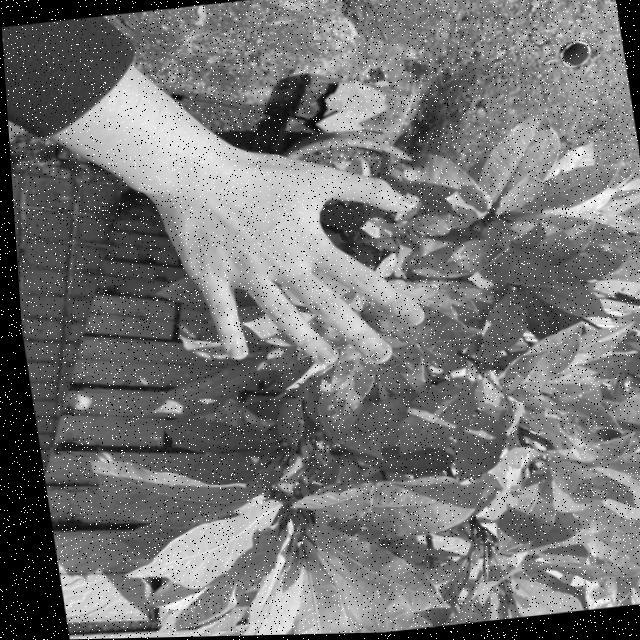no-gloves: (153, 139, 440, 388)
